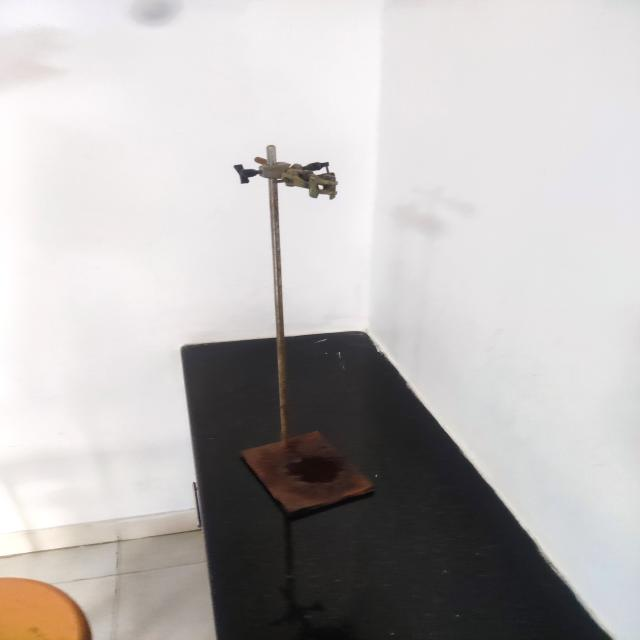Burette_Stands: (213, 137, 392, 522)
